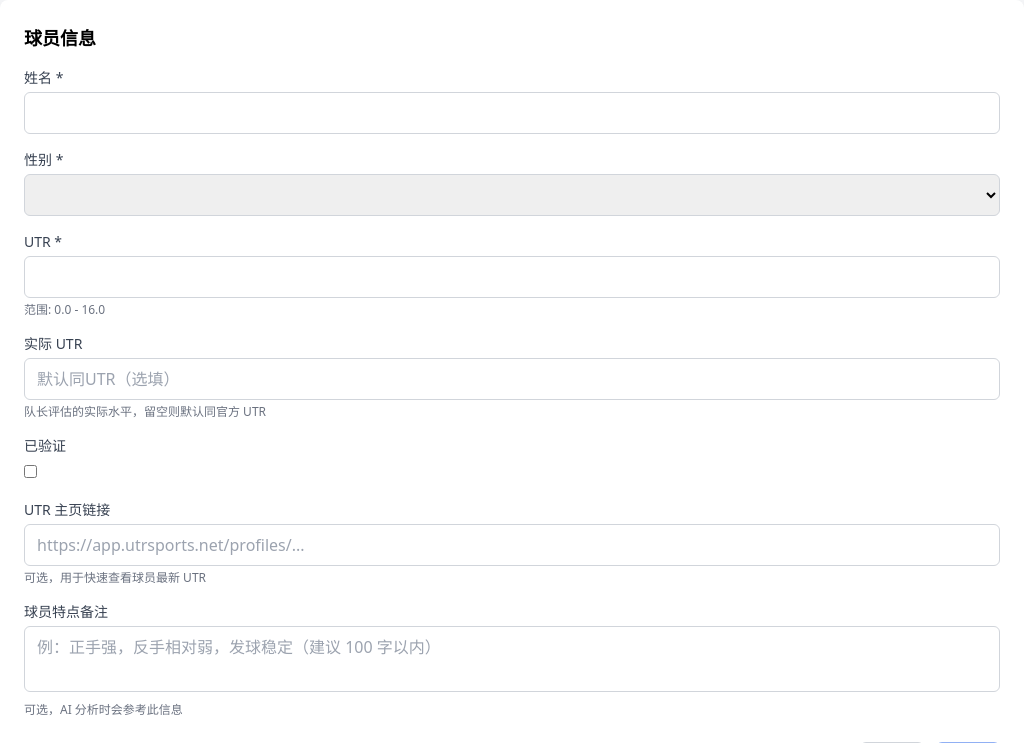
PlayerForm › 性别验证 › 未选择性别时 change 显示错误
The image size is (1024, 743).
Step 1. Select "请选择" in the dropdown → (512, 195), box [24,174,1000,216]
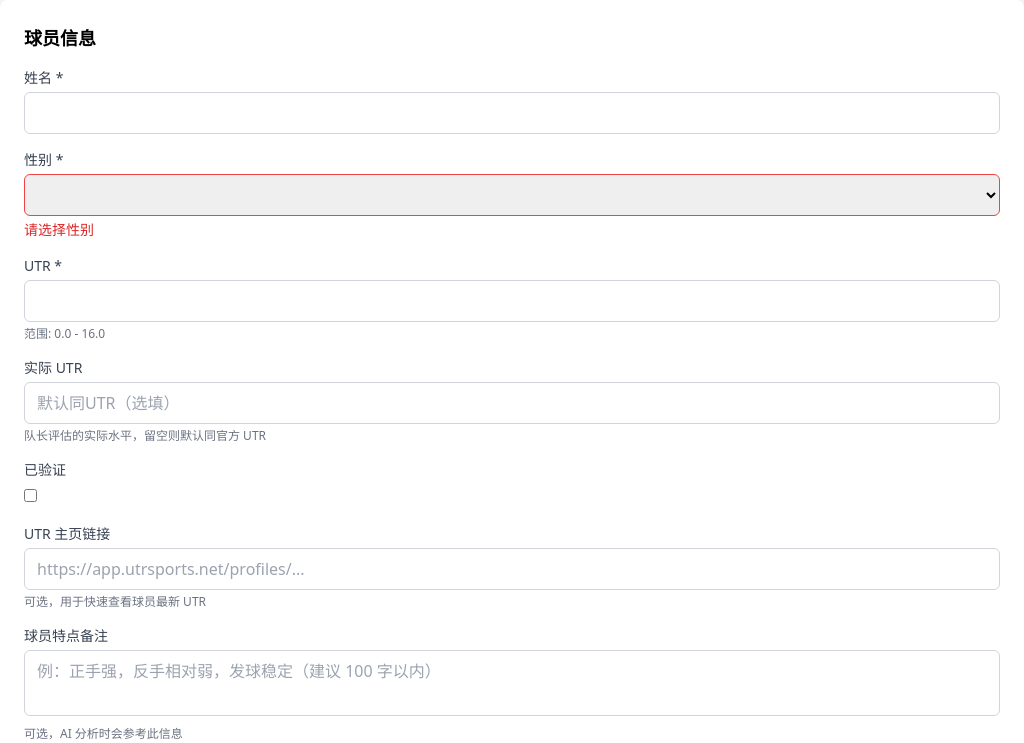
Result: the text "请选择性别" is shown at [24,220,94,239]
